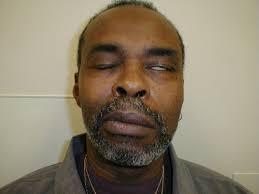strokeEyeSevere: (82, 37, 178, 76)
strokeMouthMid: (90, 106, 161, 141)
